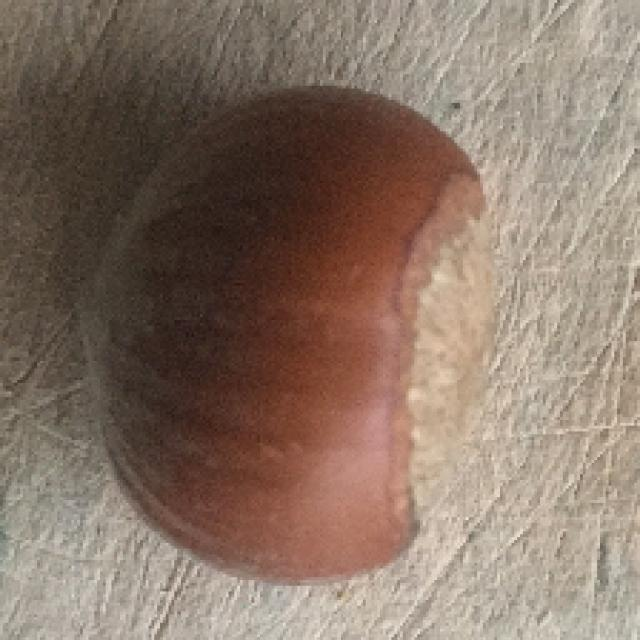QualityHazelnut: (78, 79, 500, 586)
